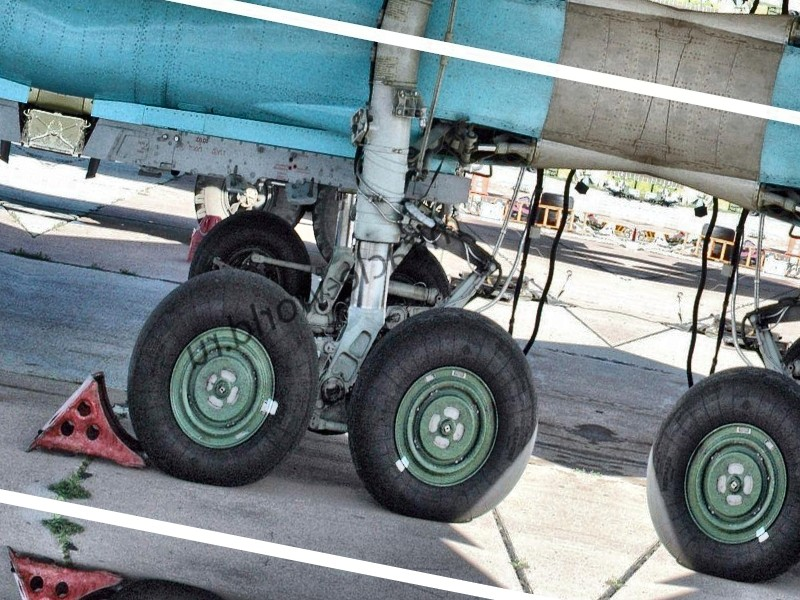chock: (24, 358, 163, 476), (0, 546, 126, 600)
wheel: (329, 288, 560, 540), (108, 249, 336, 503), (627, 347, 800, 598), (186, 199, 324, 305), (381, 238, 463, 318), (774, 315, 800, 395)
